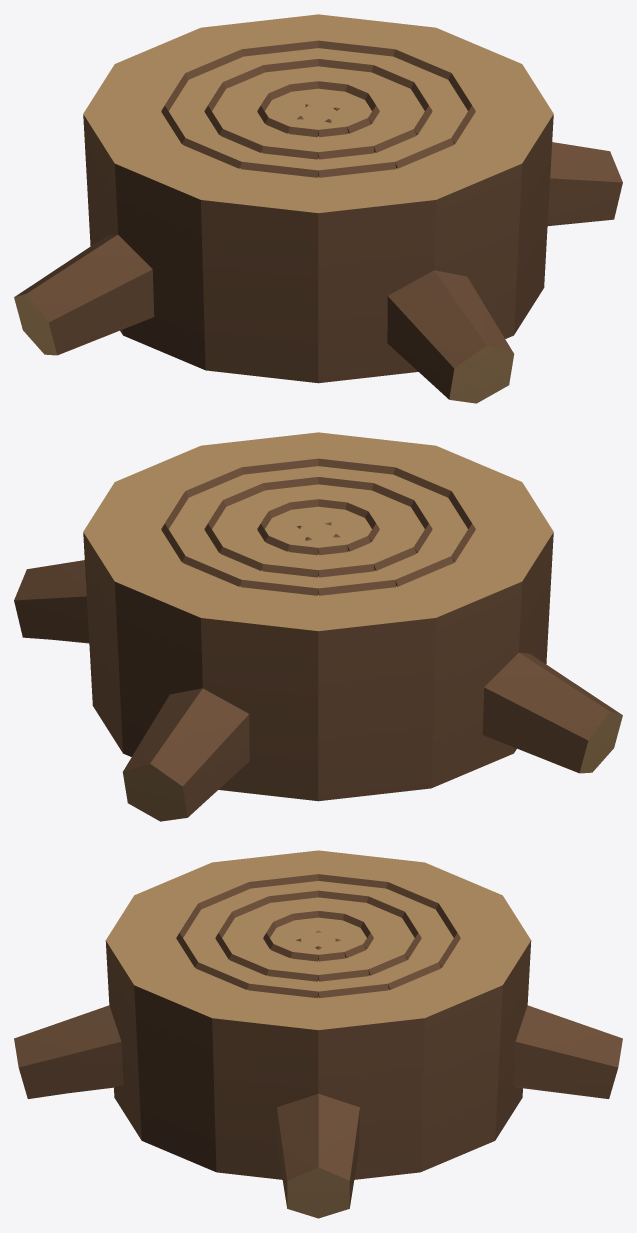
The model's file is stump_b.glb.
The picture shows the model from 3 angles, top to bottom: view 1: azimuth 30°, elevation 25°; view 2: azimuth 150°, elevation 25°; view 3: azimuth 270°, elevation 25°; orthographic projection. The views are drawn at different scales.
Parts seen in each view (by area): view 1: stump_b; view 2: stump_b; view 3: stump_b.
Boxes of the visible parts, x1,y1,x2,y2 form: stump_b: [14, 14, 622, 403]; stump_b: [14, 432, 622, 821]; stump_b: [14, 850, 622, 1218].
Size of the model in its own units: 1.4 by 0.419 by 1.4.
